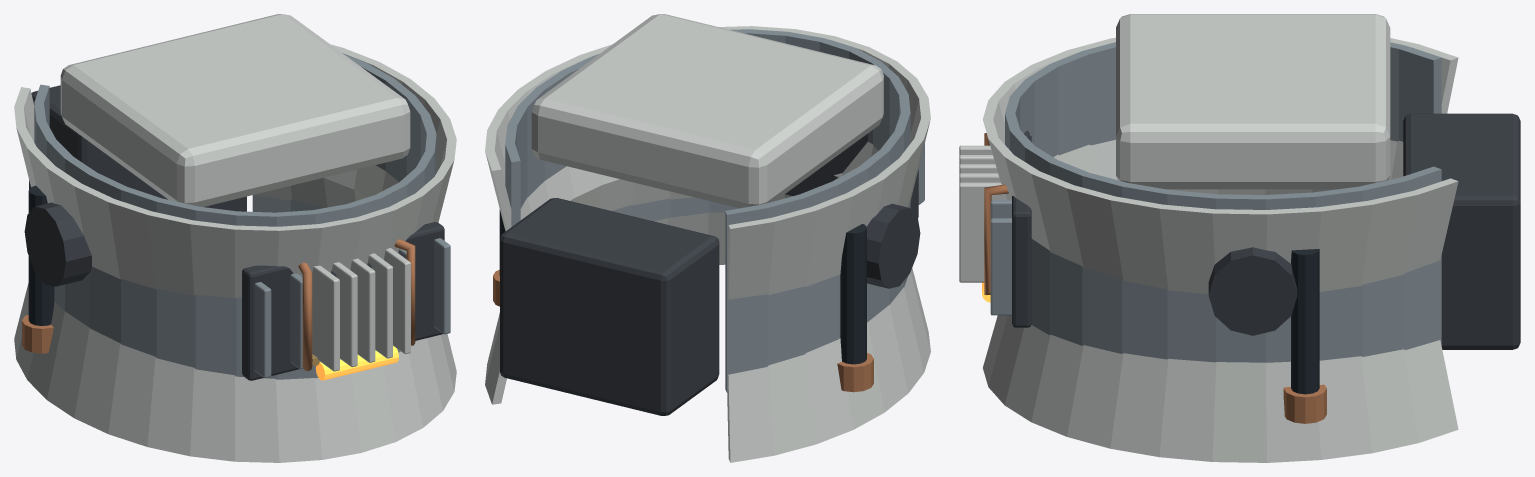
3 renders of one model, left to right at view 1: azimuth 30°, elevation 25°; view 2: azimuth 150°, elevation 25°; view 3: azimuth 270°, elevation 25°, orthographic. The views are drawn at different scales.
Visible parts, largest first — view 1: TV-306 Helion Relay — Exo pauldron; view 2: TV-306 Helion Relay — Exo pauldron; view 3: TV-306 Helion Relay — Exo pauldron.
Boxes of the visible parts, x1,y1,x2,y2 form: TV-306 Helion Relay — Exo pauldron: [14, 14, 456, 462]; TV-306 Helion Relay — Exo pauldron: [485, 14, 930, 462]; TV-306 Helion Relay — Exo pauldron: [959, 14, 1520, 462].
Size of the model in its own units: 0.36 by 0.2525 by 0.43.
